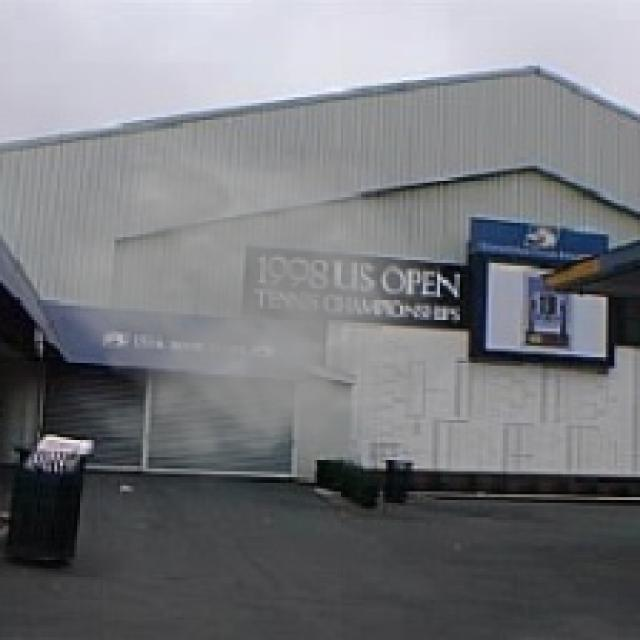Smoke: (37, 128, 463, 498)
